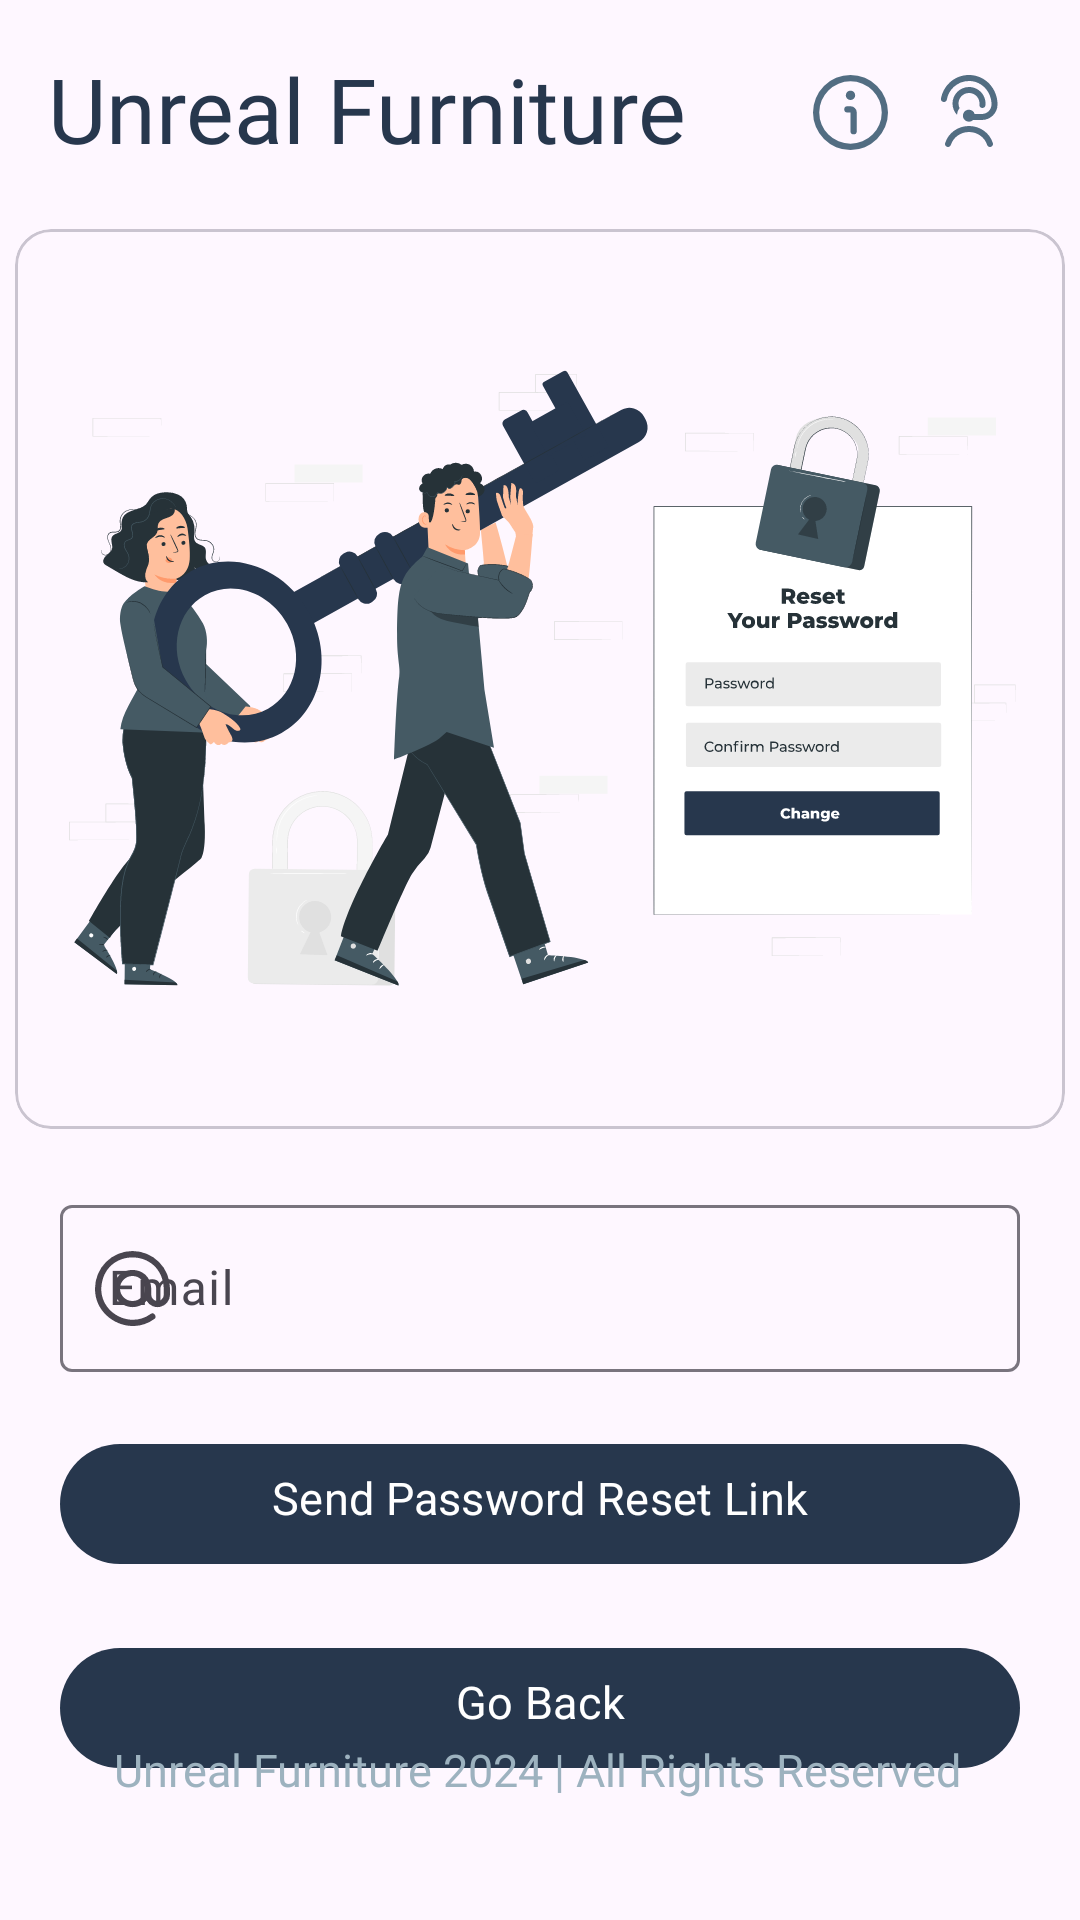

Icons on this 1080w x 1920h Android screen, each with its box as (x1, y1, x2, y2):
info: (813, 75, 888, 150)
support: (941, 75, 998, 147)
